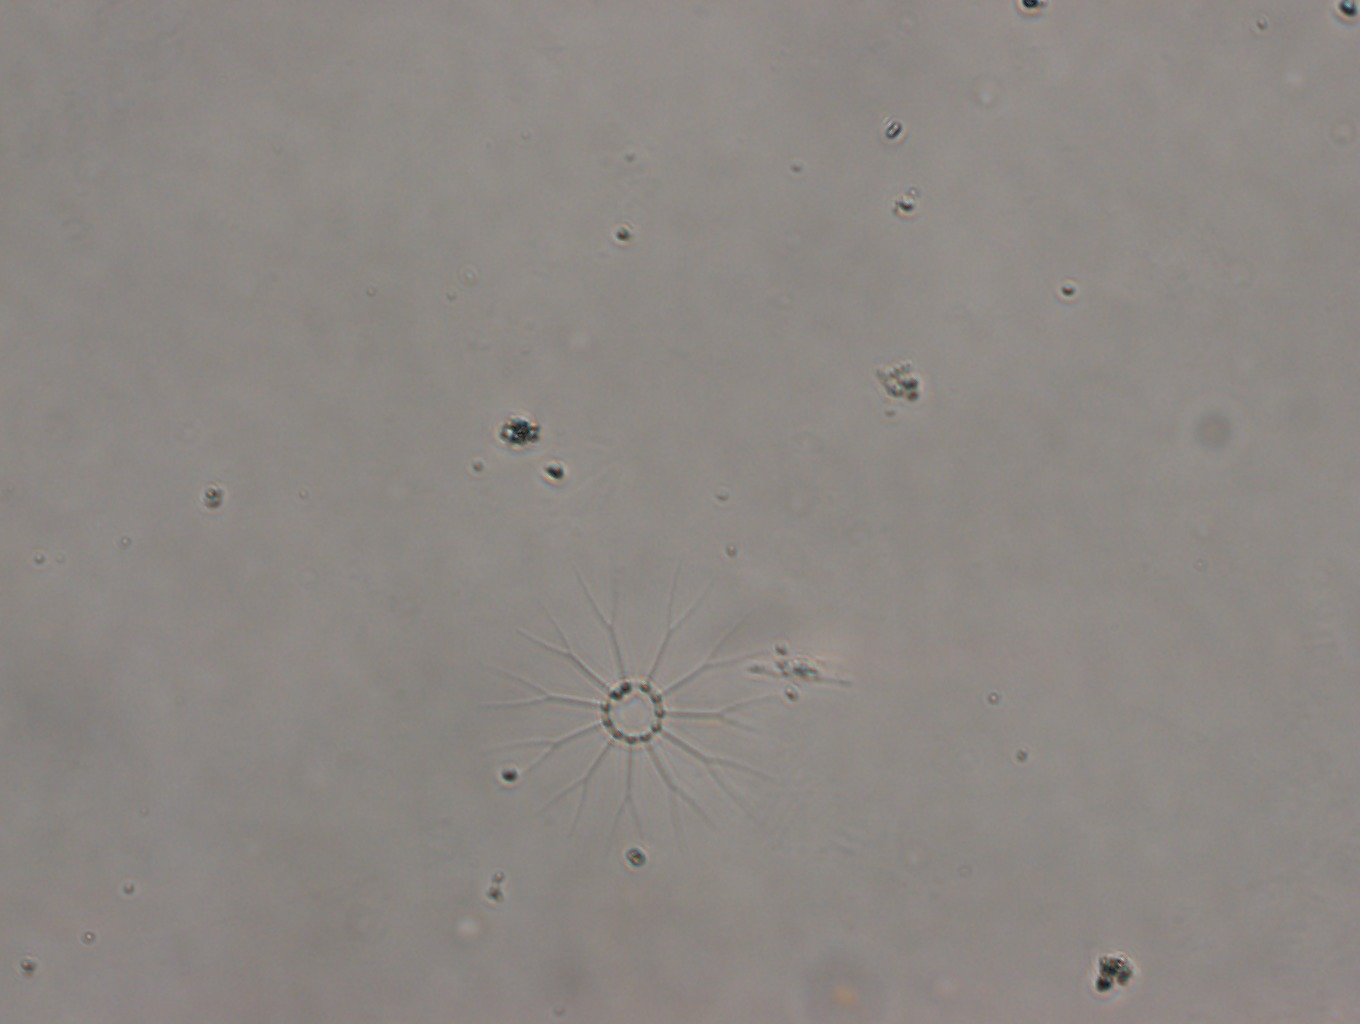bacteriastrum: (479, 563, 802, 866)
